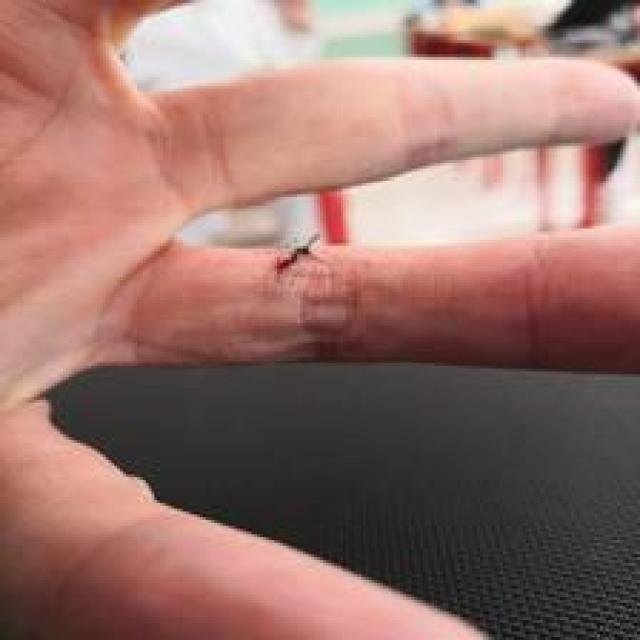Aedes albopictus: (274, 230, 323, 273)
